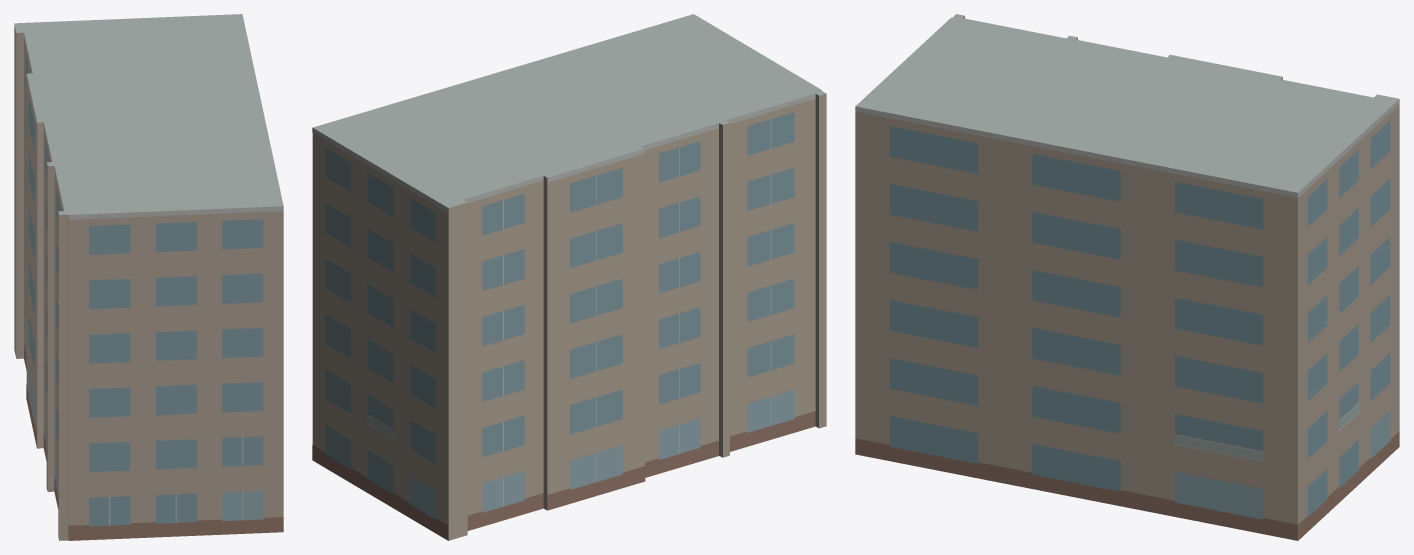
Rendered from survey-upis-32534302.glb.
The picture shows the model from 3 angles, left to right: view 1: azimuth 30°, elevation 25°; view 2: azimuth 150°, elevation 25°; view 3: azimuth 270°, elevation 25°; orthographic projection. The views are drawn at different scales.
Parts seen in each view (by area): view 1: survey-upis-32534302.tmp; view 2: survey-upis-32534302.tmp; view 3: survey-upis-32534302.tmp.
Part boxes in pixels (x1,y1,x2,y2): survey-upis-32534302.tmp: (14, 14, 283, 540); survey-upis-32534302.tmp: (312, 14, 826, 540); survey-upis-32534302.tmp: (855, 14, 1399, 540).
Bounding box in the file's own units: 18.09 × 16.4 × 23.26.
